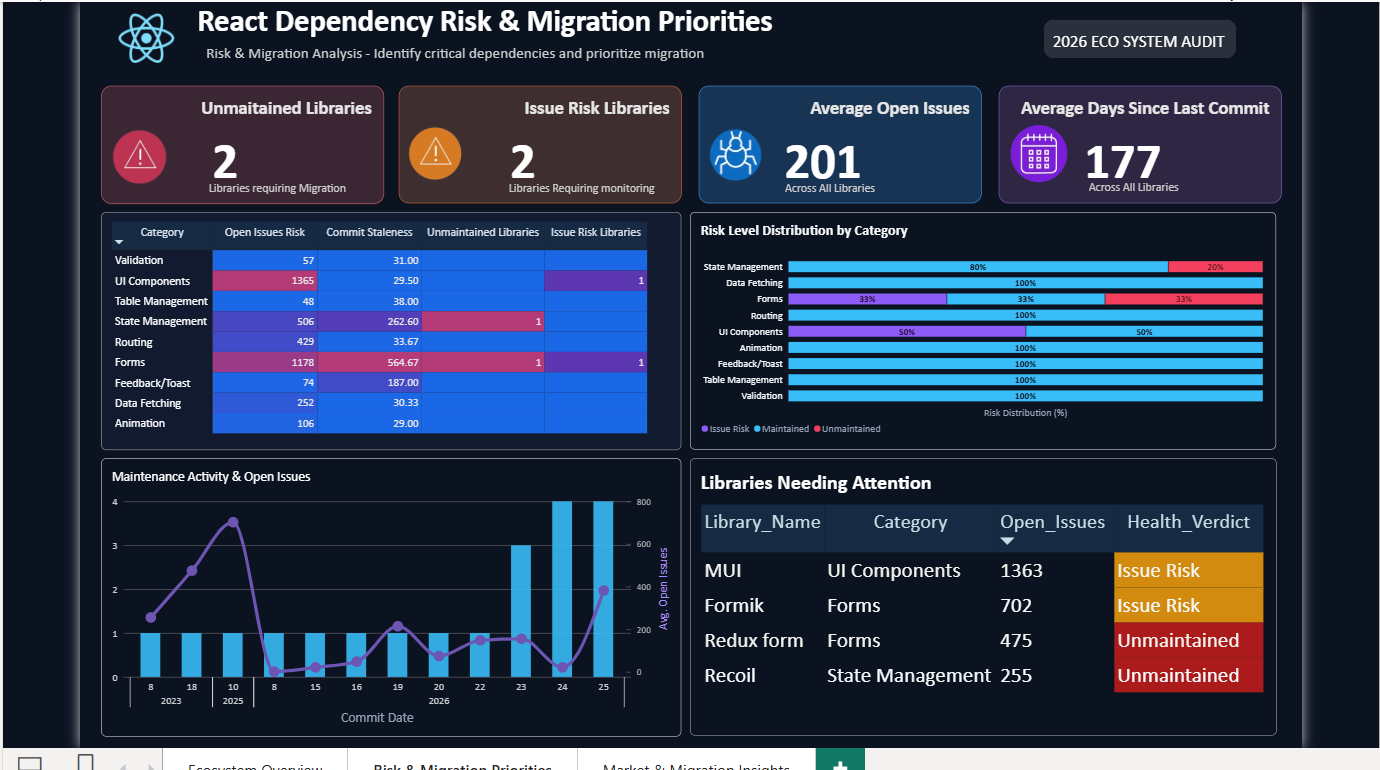

The dashboard page shown, as its layout file describes it:
{"tool":"powerbi","page":{"name":"Risk & Migration Priorities","canvas":[1920,1173],"ordinal":1},"visuals":[{"type":"textbox","box":[0,0,2560.7,110.4],"z":0},{"type":"image","box":[47.1,16.3,114,81.4],"z":1000},{"type":"shape","box":[1514.8,27.8,302.7,60.9],"z":2000},{"type":"textbox","box":[1516.7,44.4,302.7,45.2],"z":3000},{"type":"cardVisual","title":"Unmaitained Libraries","fields":{"Data":["public ecosystem_health.Dependencies Audited"]},"box":[32.9,131.7,444.6,185.2],"z":4000},{"type":"textbox","box":[202.5,281.2,257.5,35],"z":5000},{"type":"cardVisual","title":"Issue Risk Libraries","fields":{"Data":["public ecosystem_health.Dependencies Audited"]},"box":[501.3,132.1,445.2,184.6],"z":6000},{"type":"textbox","box":[674.2,281.1,271.2,35.4],"z":7000},{"type":"cardVisual","title":"Average Open Issues","fields":{"Data":["public ecosystem_health.Average Open Issues"]},"box":[973.6,132.1,445.2,184.6],"z":8000},{"type":"textbox","box":[1108.5,281.1,292.9,35.4],"z":9000},{"type":"cardVisual","title":"Average Days Since Last Commit","fields":{"Data":["public ecosystem_health.Average days since last commit"]},"box":[1444.1,132.1,445.2,184.6],"z":10000},{"type":"textbox","box":[1587,279.9,294.3,37],"z":11000},{"type":"image","box":[33.4,196.5,120,92.7],"z":12000},{"type":"image","box":[515,188.7,86.9,99.5],"z":13000},{"type":"image","box":[988.6,184.8,84.5,114],"z":14000},{"type":"image","box":[1462.3,184.8,90.4,108.1],"z":15000},{"type":"pivotTable","fields":{"Rows":["public ecosystem_health.category"],"Values":["public ecosystem_health.open issues risk","public ecosystem_health.commit staleness","public ecosystem_health.unmaintained libraries","public ecosystem_health.Issue Risk Libraries"]},"box":[33.3,329.4,911.8,374.5],"z":16000},{"type":"hundredPercentStackedBarChart","title":"Risk Level Distribution by Category","fields":{"Category":["public ecosystem_health.category"],"Series":["public ecosystem_health.health_verdict"],"Y":["CountNonNull(public ecosystem_health.library_name)"]},"box":[960,330,921.8,373.4],"z":17000},{"type":"lineClusteredColumnComboChart","title":"Maintenance Activity & Open Issues","fields":{"Y":["CountNonNull(public ecosystem_health.library_name)"],"Y2":["Avg(public ecosystem_health.open_issues)"],"Category":["public ecosystem_health.last_commit_date.Variation.Date Hierarchy.Year","public ecosystem_health.last_commit_date.Variation.Date Hierarchy.Day"]},"box":[33.3,717.6,911.8,437.3],"z":18000},{"type":"tableEx","title":"Libraries Needing Attention","fields":{"Values":["public ecosystem_health.library_name","public ecosystem_health.category","public ecosystem_health.open_issues","public ecosystem_health.health_verdict"]},"box":[960,718,922,436],"z":19000}]}

Visuals, with their boxes on the page's 1920x1173 design canvas (x1, y1, x2, y2). These are canvas units, not pixel positions in the 1380x770 screenshot, which may show the page scaled, cropped or inside an application window:
textbox: region(0, 0, 2561, 110)
image: region(47, 16, 161, 98)
shape: region(1515, 28, 1818, 89)
textbox: region(1517, 44, 1819, 90)
"Unmaitained Libraries" cardVisual: region(33, 132, 478, 317)
textbox: region(202, 281, 460, 316)
"Issue Risk Libraries" cardVisual: region(501, 132, 946, 317)
textbox: region(674, 281, 945, 316)
"Average Open Issues" cardVisual: region(974, 132, 1419, 317)
textbox: region(1108, 281, 1401, 316)
"Average Days Since Last Commit" cardVisual: region(1444, 132, 1889, 317)
textbox: region(1587, 280, 1881, 317)
image: region(33, 196, 153, 289)
image: region(515, 189, 602, 288)
image: region(989, 185, 1073, 299)
image: region(1462, 185, 1553, 293)
pivotTable - public ecosystem_health.category x public ecosystem_health.open issues risk: region(33, 329, 945, 704)
"Risk Level Distribution by Category" hundredPercentStackedBarChart: region(960, 330, 1882, 703)
"Maintenance Activity & Open Issues" lineClusteredColumnComboChart: region(33, 718, 945, 1155)
"Libraries Needing Attention" tableEx: region(960, 718, 1882, 1154)
